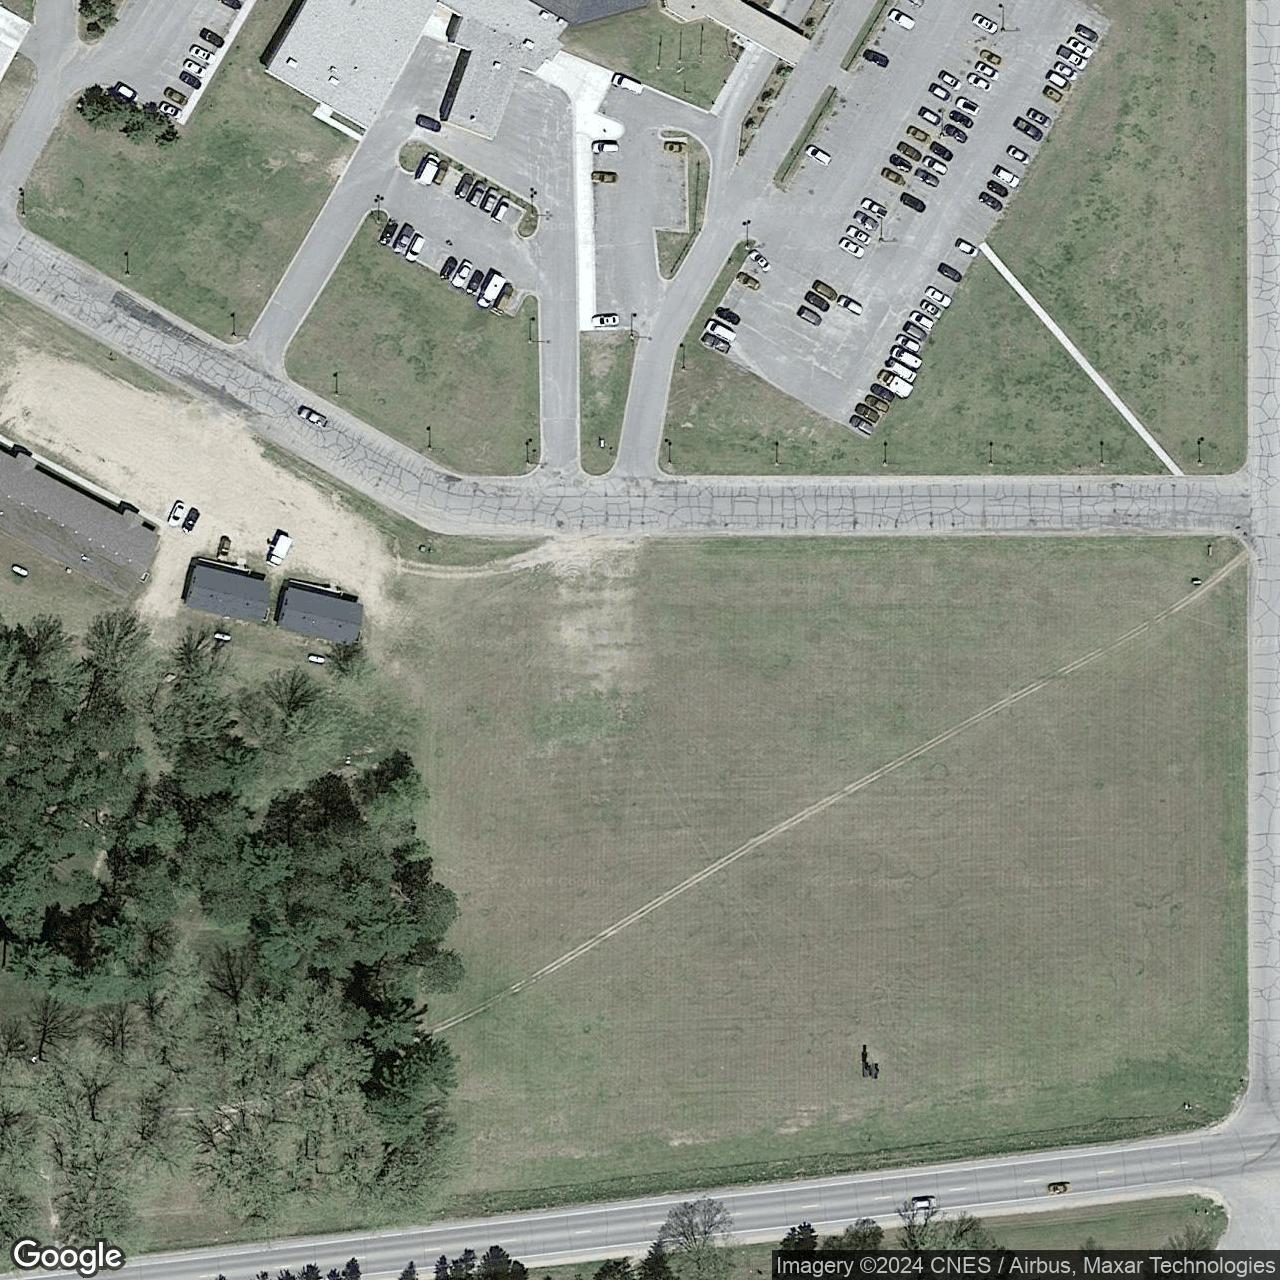House: (0, 447, 162, 600), (661, 0, 811, 66), (183, 561, 272, 626), (274, 585, 363, 647), (0, 1, 32, 86)
Other: (261, 0, 655, 143)
Propane: (11, 563, 30, 579), (212, 628, 233, 644), (306, 652, 326, 666)
